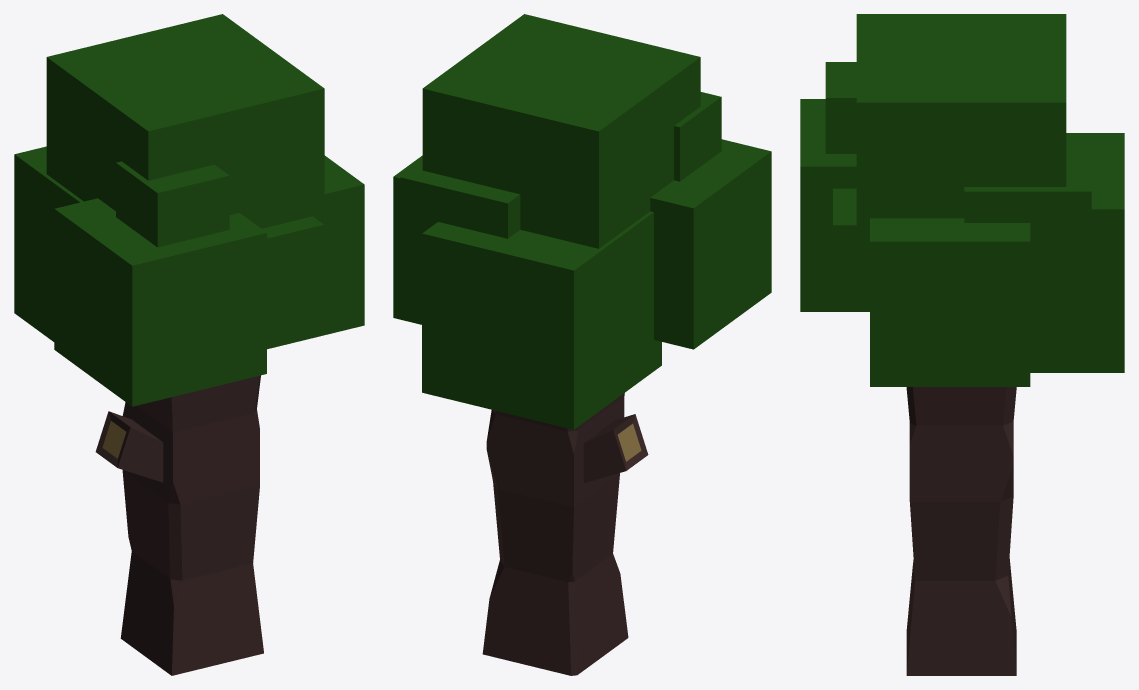
Rendered from tree.fbx.
The picture shows the model from 3 angles, left to right: view 1: azimuth 30°, elevation 25°; view 2: azimuth 150°, elevation 25°; view 3: azimuth 270°, elevation 25°; orthographic projection. The views are drawn at different scales.
Parts seen in each view (by area): view 1: Cube.002, Cube, Cube.004, Cube.001, Cube.003, Cube.006, Cube.005; view 2: Cube.002, Cube.003, Cube, Cube.004, Cube.007, Cube.006, Cube.001; view 3: Cube.002, Cube, Cube.001, Cube.003, Cube.007, Cube.004, Cube.005, Cube.006.
Boxes of the visible parts, left/top/right/bottom form: Cube.002: left=46, top=14, right=324, bottom=272; Cube: left=95, top=375, right=263, bottom=675; Cube.004: left=54, top=198, right=266, bottom=406; Cube.001: left=267, top=155, right=364, bottom=349; Cube.003: left=14, top=146, right=83, bottom=341; Cube.006: left=116, top=161, right=229, bottom=247; Cube.005: left=262, top=216, right=323, bottom=317; Cube.002: left=422, top=14, right=700, bottom=248; Cube.003: left=422, top=211, right=661, bottom=429; Cube: left=482, top=393, right=648, bottom=675; Cube.004: left=650, top=139, right=771, bottom=349; Cube.007: left=400, top=161, right=520, bottom=294; Cube.006: left=674, top=92, right=721, bottom=181; Cube.001: left=393, top=155, right=422, bottom=324; Cube.002: left=856, top=14, right=1066, bottom=292; Cube: left=906, top=387, right=1016, bottom=675; Cube.001: left=870, top=218, right=1030, bottom=386; Cube.003: left=1030, top=133, right=1124, bottom=372; Cube.007: left=964, top=138, right=1091, bottom=307; Cube.004: left=800, top=99, right=869, bottom=311; Cube.005: left=833, top=188, right=869, bottom=307; Cube.006: left=825, top=62, right=856, bottom=153.
Size of the model in its own units: 518 by 1067 by 531.
